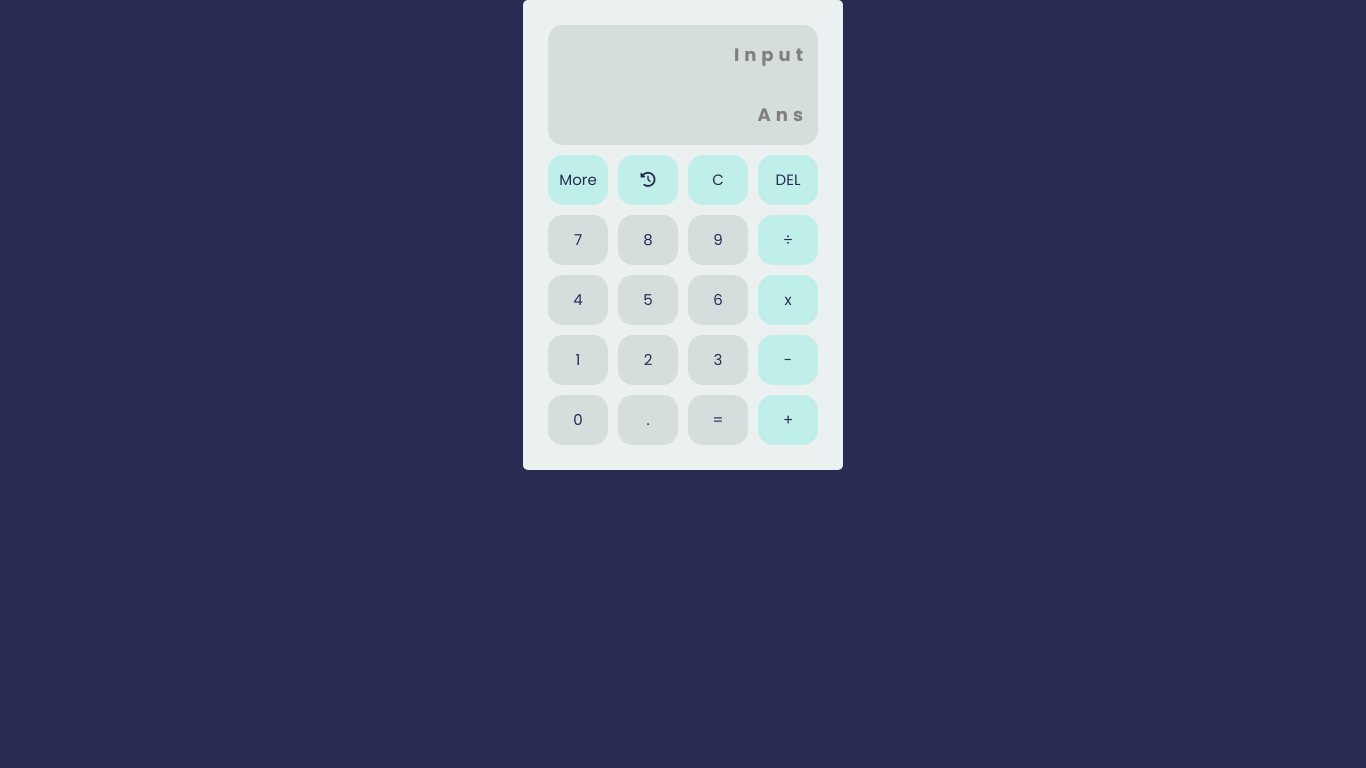
Test: Calculator › should return error message for square root of negative numbers
Click the button with test id "more". click: (578, 180)
box: [548,155,608,205]
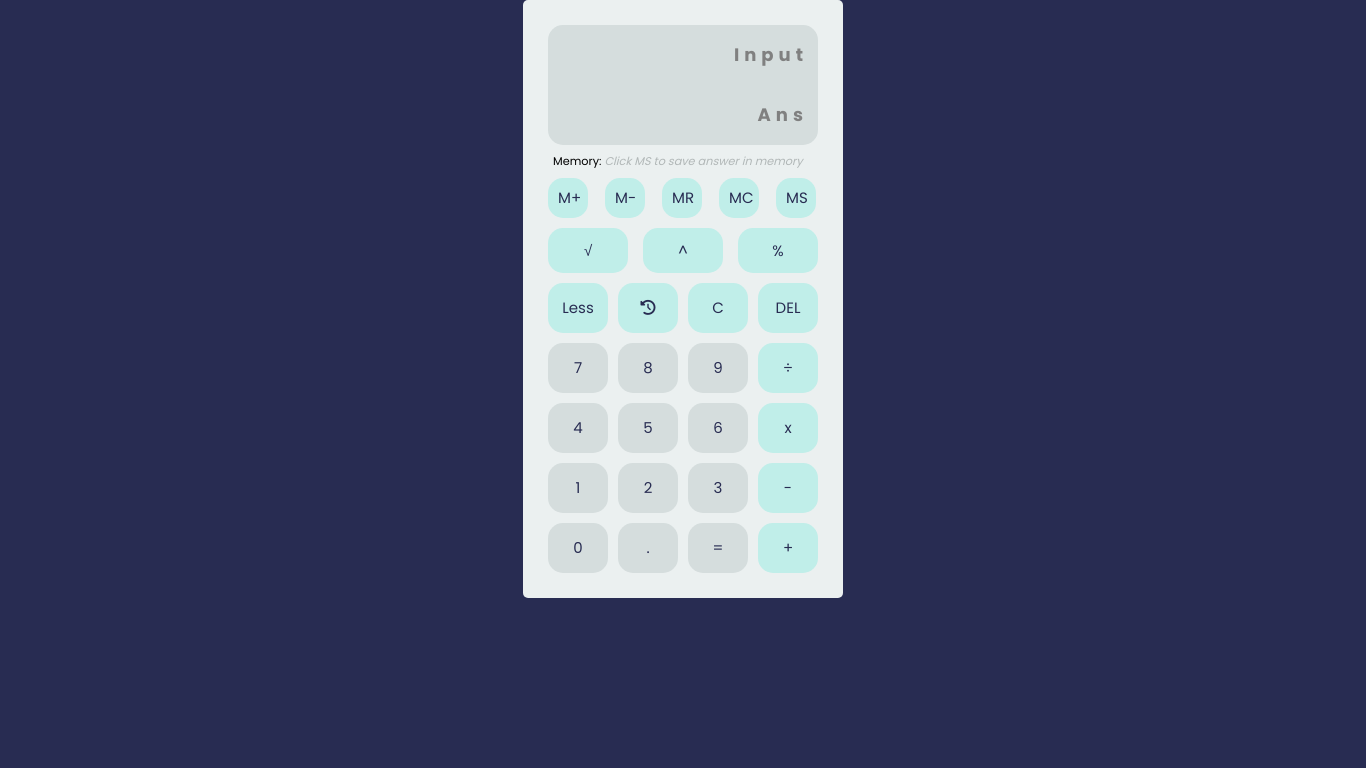
Click the button with test id "sqrt". click: (588, 250)
box: [548,228,628,273]
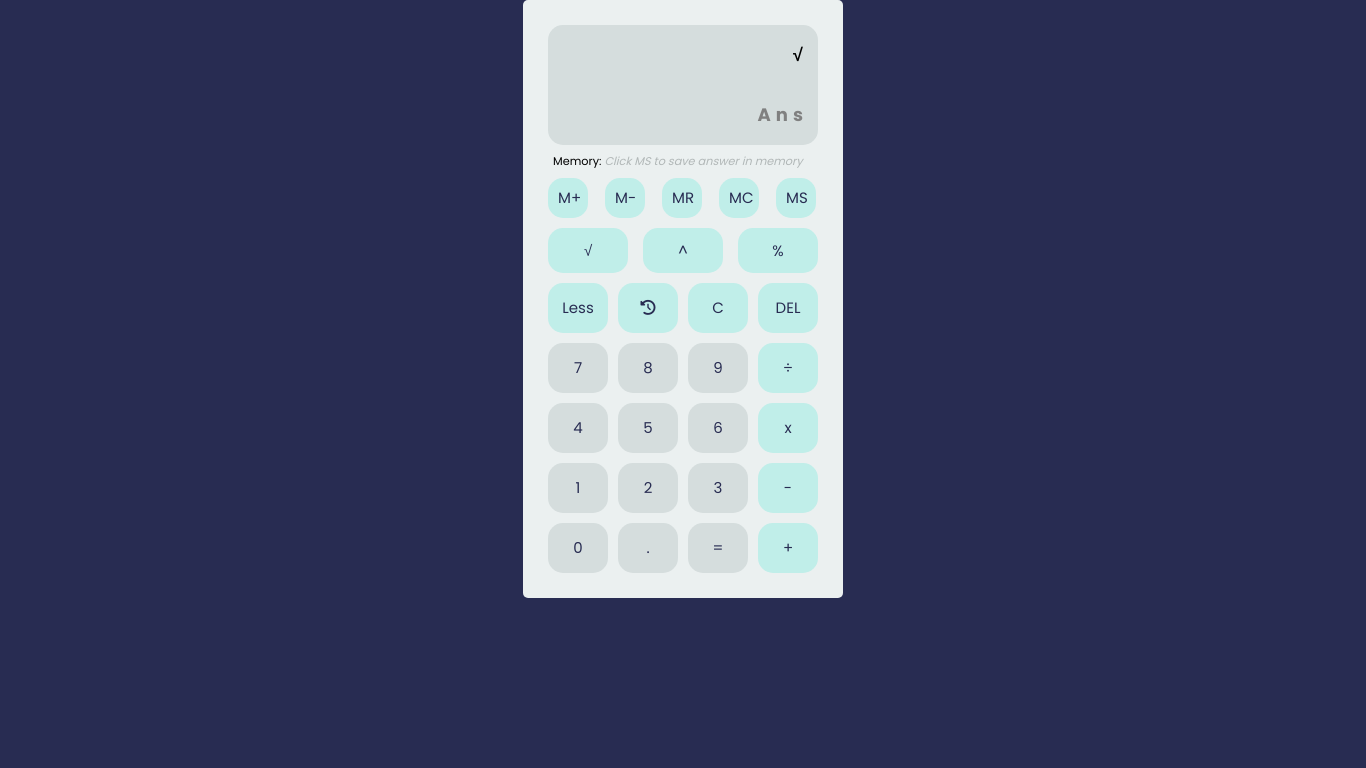
Click the button with test id "-". click: (788, 488)
box: [758,463,818,513]
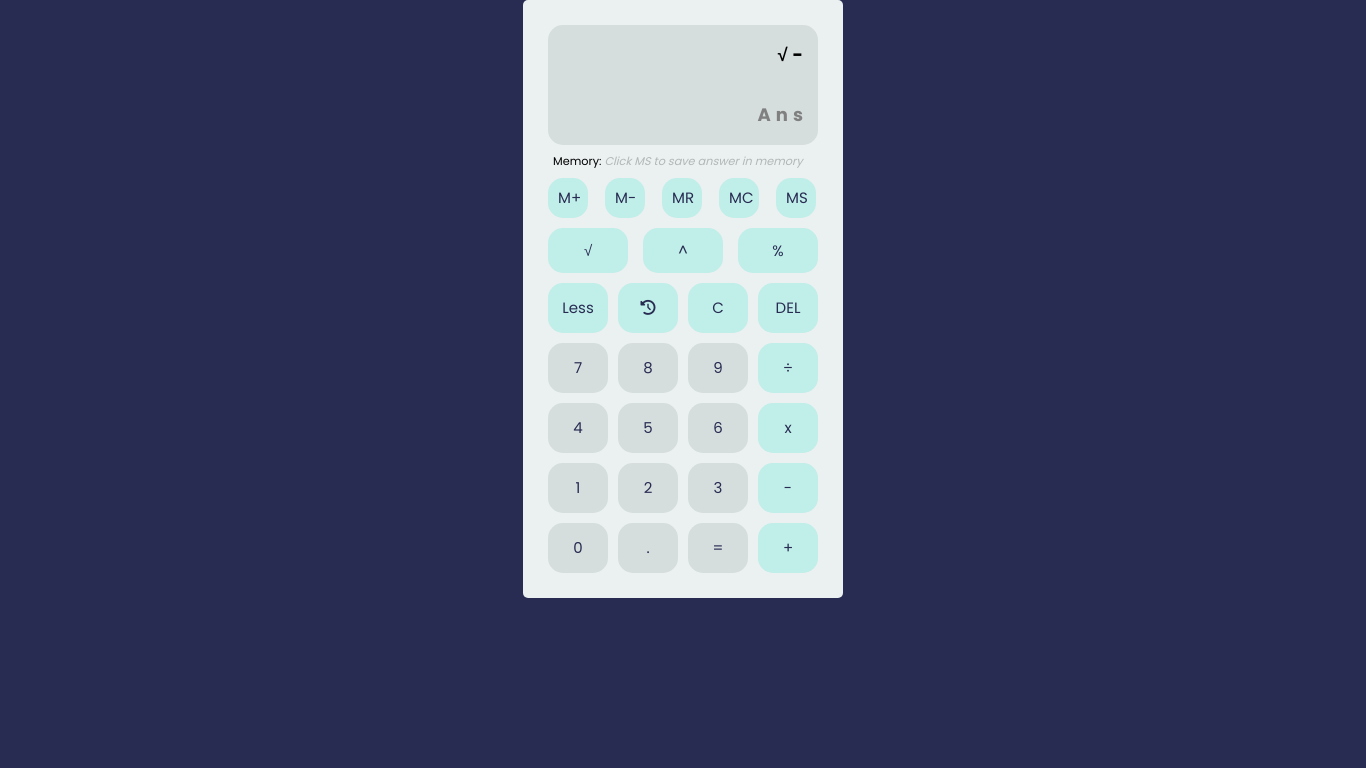
Click the button with test id "8". click: (648, 368)
box: [618,343,678,393]
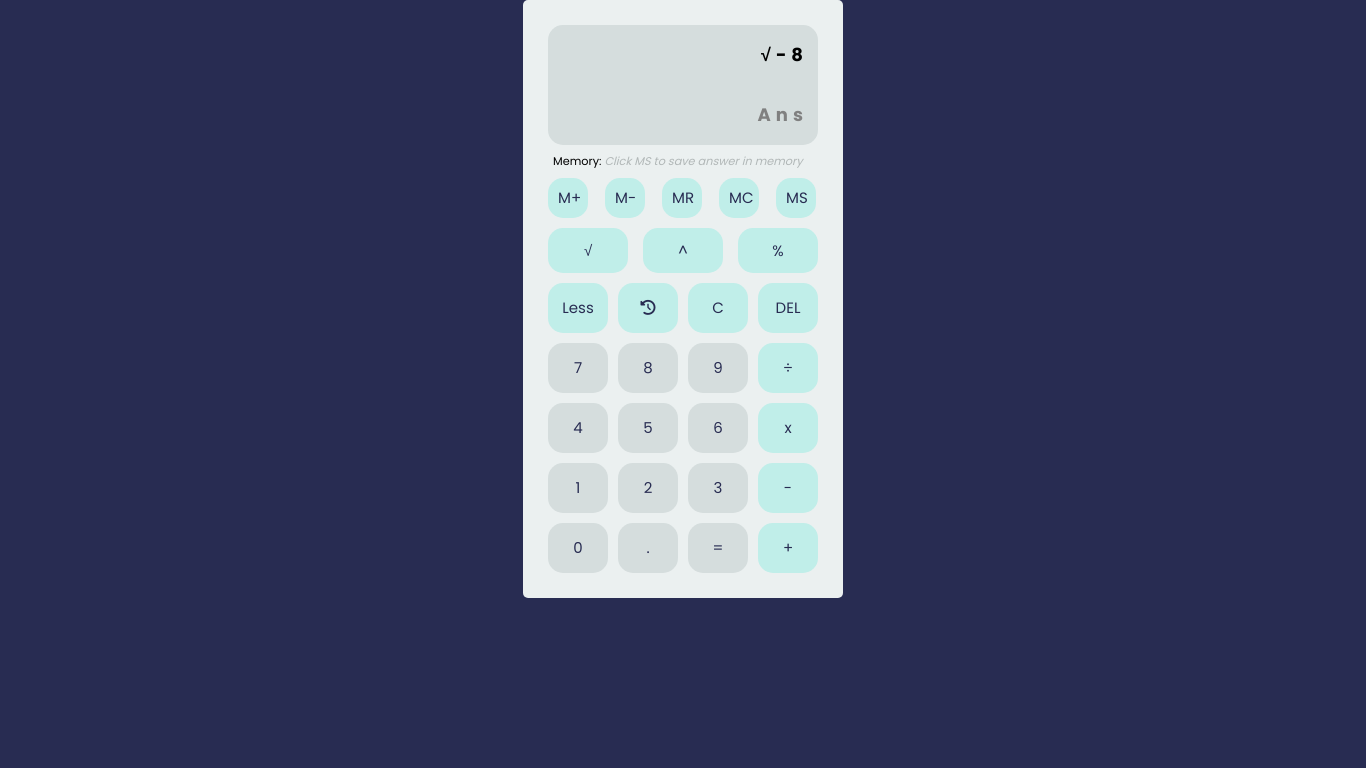
Click the button with test id "=". click: (718, 548)
box: [688,523,748,573]
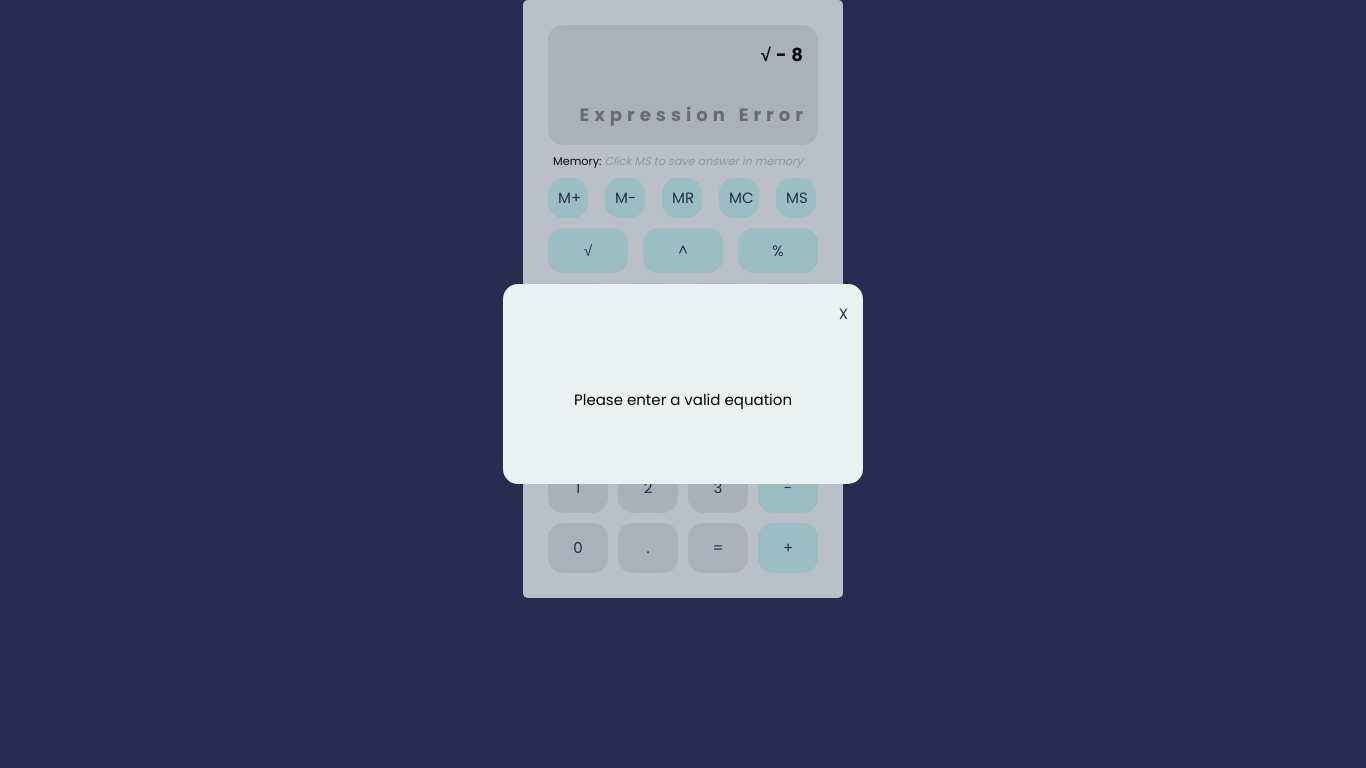
Check: the heading with test id "result" reads "Expression Error", box [580,102,808,127]
